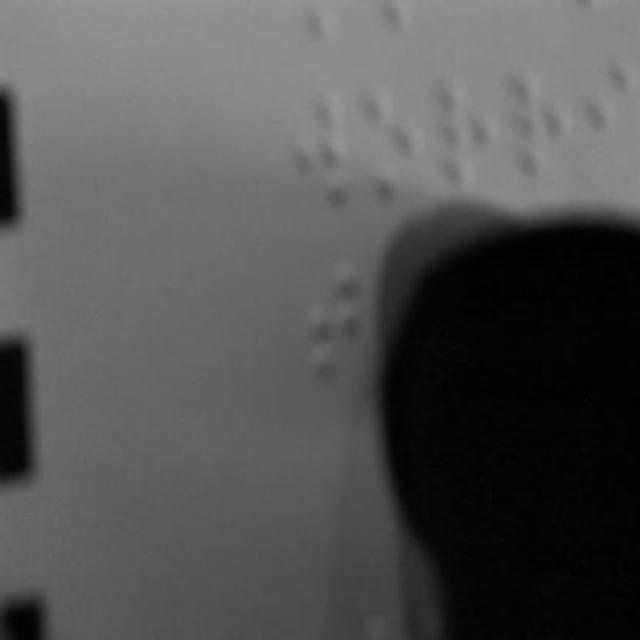braiile: (504, 70, 578, 206), (358, 80, 430, 210), (289, 88, 353, 228), (306, 259, 369, 399), (435, 76, 499, 212)
